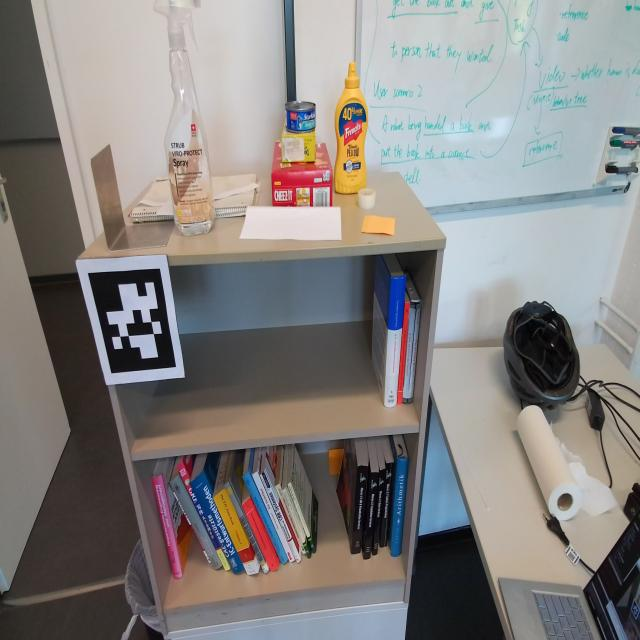Book Spine: (177, 461, 230, 571), (189, 470, 244, 574), (169, 474, 222, 569), (242, 470, 288, 564), (224, 480, 269, 574), (213, 488, 259, 575), (252, 471, 295, 563), (259, 470, 301, 563), (152, 475, 182, 579), (384, 275, 406, 408), (242, 497, 278, 571), (275, 483, 306, 554), (287, 482, 316, 553), (282, 488, 311, 558), (390, 457, 409, 557), (351, 465, 368, 554), (402, 305, 416, 403), (397, 302, 410, 404), (364, 472, 379, 560), (408, 304, 421, 403), (380, 462, 394, 548), (373, 469, 385, 556)
